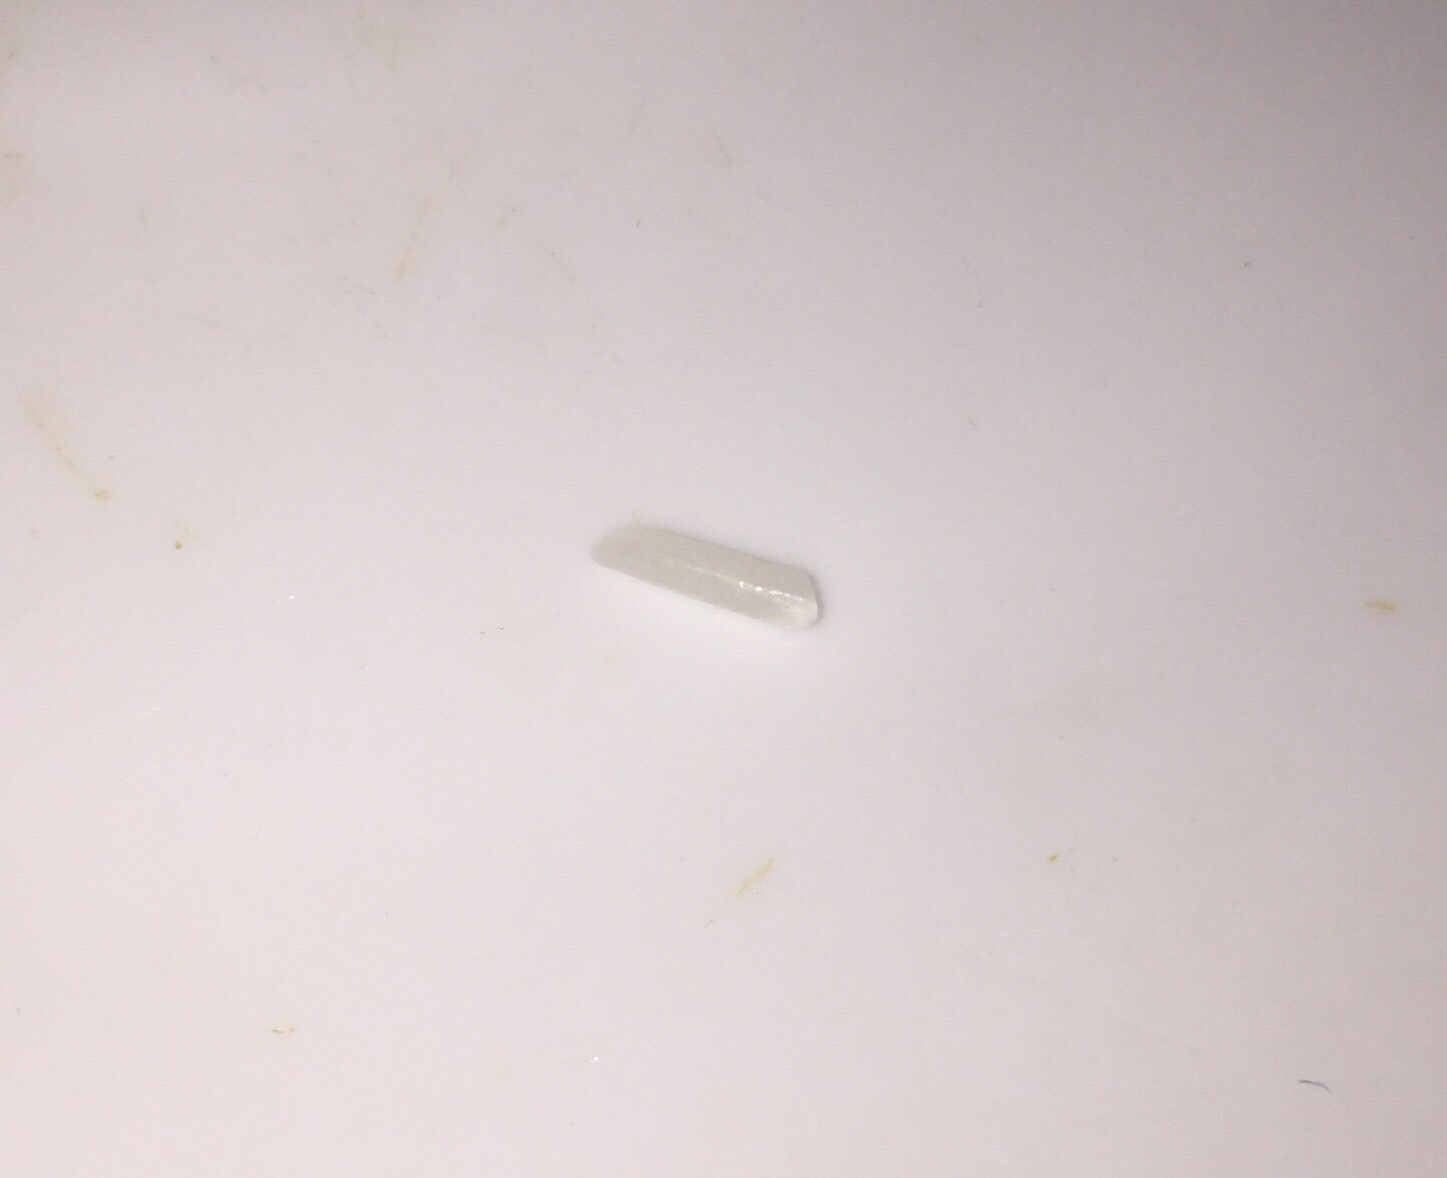Gao Ngoc Troi: (585, 487, 869, 662)
